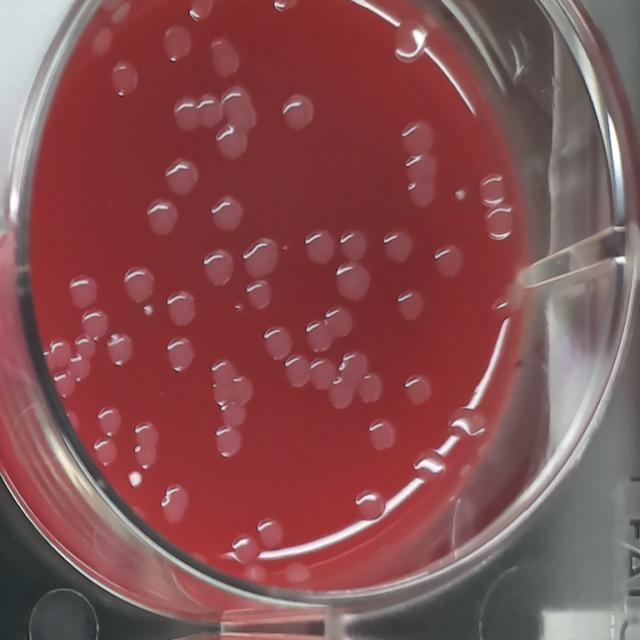Staphylococcus: (126, 467, 144, 491), (452, 186, 468, 205), (141, 302, 156, 318)
